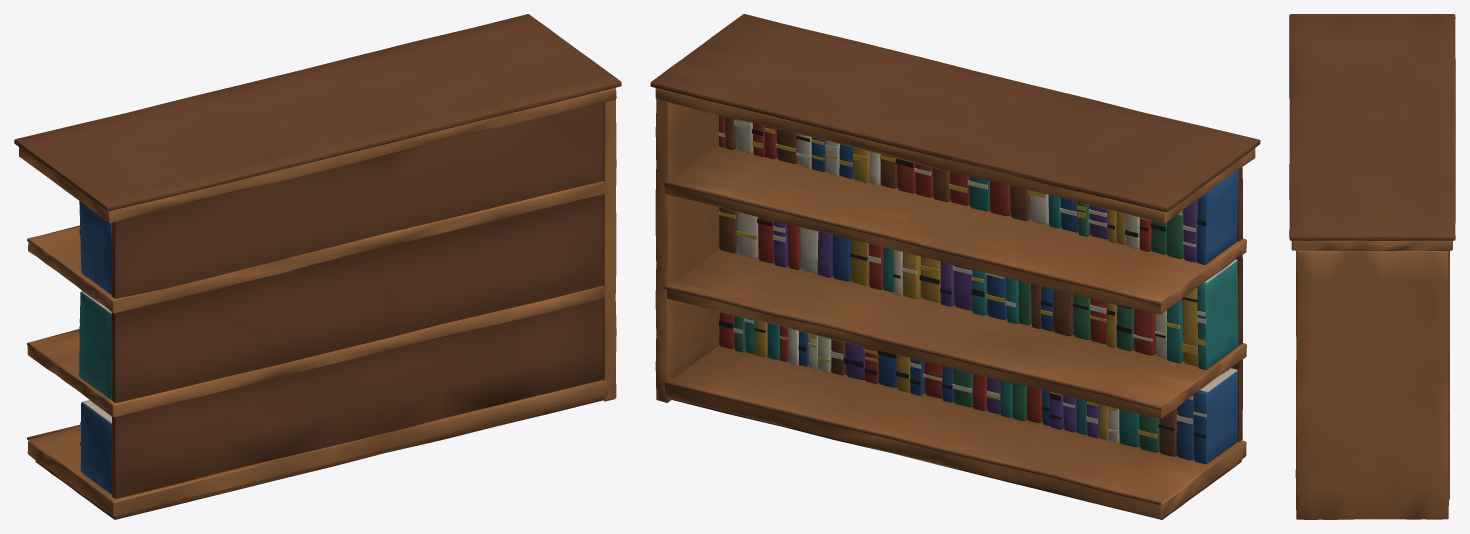
File: den_bookshelf.glb
3 views of the same model, side by side, from view 1: azimuth 30°, elevation 25°; view 2: azimuth 150°, elevation 25°; view 3: azimuth 270°, elevation 25° (orthographic). The views are drawn at different scales.
Visible parts, largest first — view 1: den_bookshelf; view 2: den_bookshelf; view 3: den_bookshelf.
Part boxes in pixels (<box>): den_bookshelf: <box>14,14,621,519</box>; den_bookshelf: <box>650,14,1260,519</box>; den_bookshelf: <box>1289,14,1455,519</box>.
Bounding box in the file's own units: 62.44 × 37.14 × 19.64.
